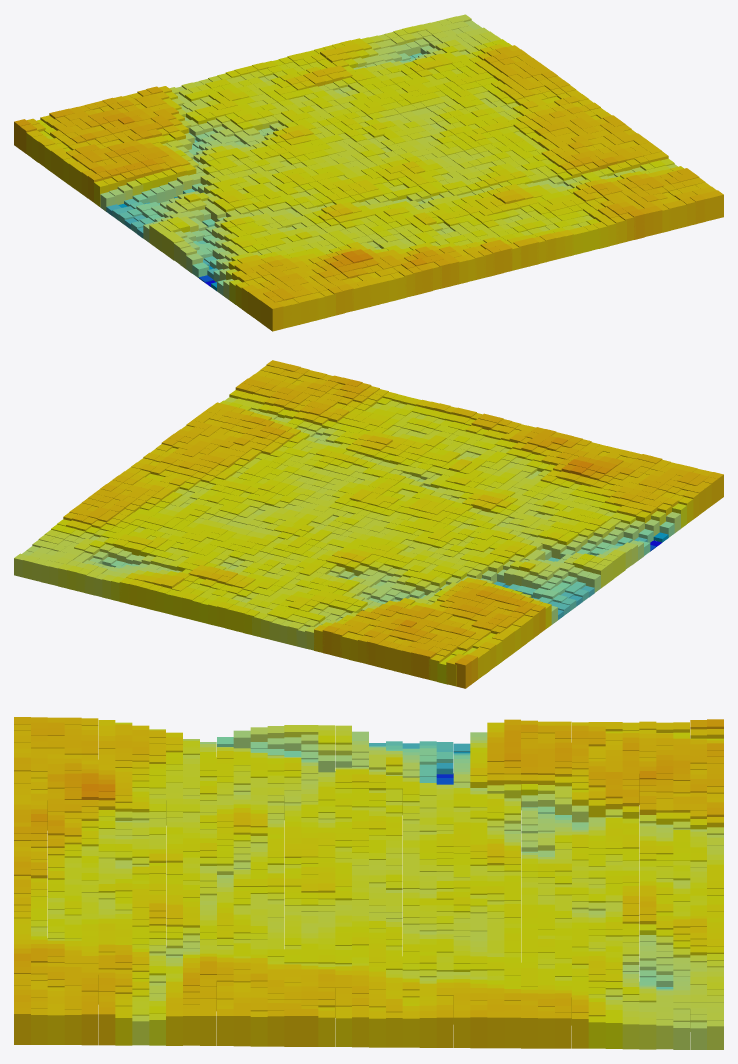
The model's file is population.glb.
3 renders of one model, top to bottom at view 1: azimuth 30°, elevation 25°; view 2: azimuth 150°, elevation 25°; view 3: azimuth 270°, elevation 25°, orthographic. The views are drawn at different scales.
Parts seen in each view (by area): view 1: population; view 2: population; view 3: population.
Boxes of the visible parts, x1=… form: population: x1=14, y1=14, x2=723, y2=331; population: x1=14, y1=360, x2=723, y2=688; population: x1=14, y1=717, x2=723, y2=1049.
Bounding box in the file's own units: 4242 × 266 × 4205.
